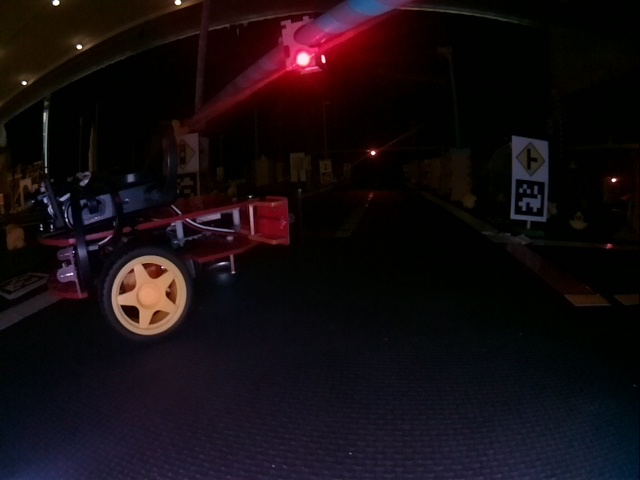Duckie: (570, 212, 587, 229), (461, 194, 476, 208)
Duckiebot: (37, 165, 291, 331)
Intersection sign: (512, 136, 548, 177)
QR code: (510, 185, 547, 222), (1, 273, 49, 299), (176, 172, 200, 197)
Traffic light: (279, 17, 322, 73)
